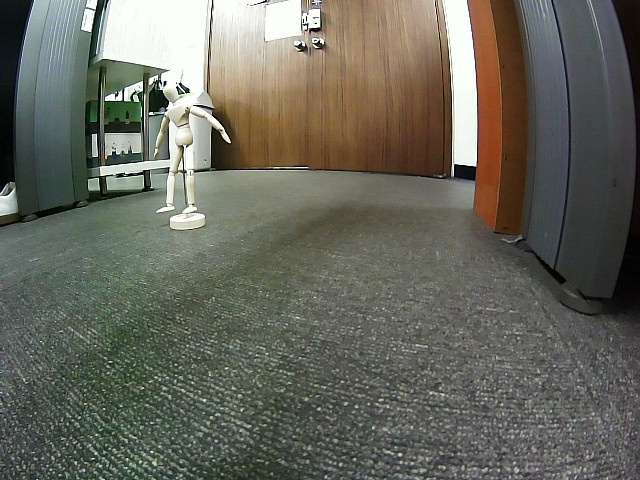person: (154, 83, 230, 211)
